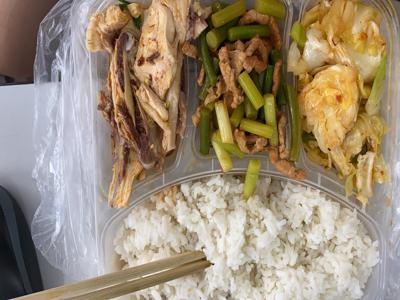j1: (85, 1, 190, 206)
st: (182, 1, 299, 175)
